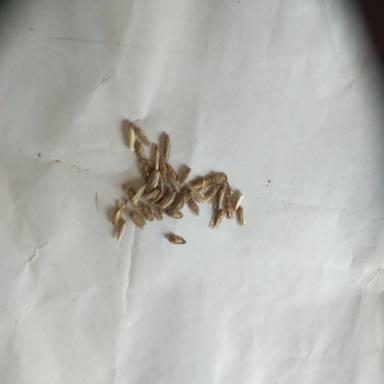pbw: (112, 198, 127, 226), (134, 125, 151, 148), (132, 183, 148, 204), (213, 186, 226, 210), (210, 208, 224, 230), (159, 191, 176, 209), (130, 210, 146, 229), (147, 201, 163, 220), (166, 172, 181, 192), (147, 169, 159, 194), (128, 187, 140, 211), (205, 184, 221, 202), (179, 167, 192, 188), (170, 195, 186, 212), (224, 192, 234, 218), (141, 200, 154, 220), (135, 139, 146, 162), (190, 186, 204, 202), (163, 133, 171, 161), (148, 192, 164, 206), (116, 219, 126, 241), (188, 196, 199, 216), (166, 163, 178, 181), (190, 179, 209, 190), (158, 168, 166, 194), (234, 192, 244, 212), (160, 159, 168, 182), (146, 188, 160, 201), (128, 122, 134, 152), (210, 174, 228, 184), (166, 208, 184, 218), (180, 190, 194, 202), (226, 179, 235, 197), (169, 236, 186, 244), (238, 206, 244, 227), (154, 146, 159, 170)
